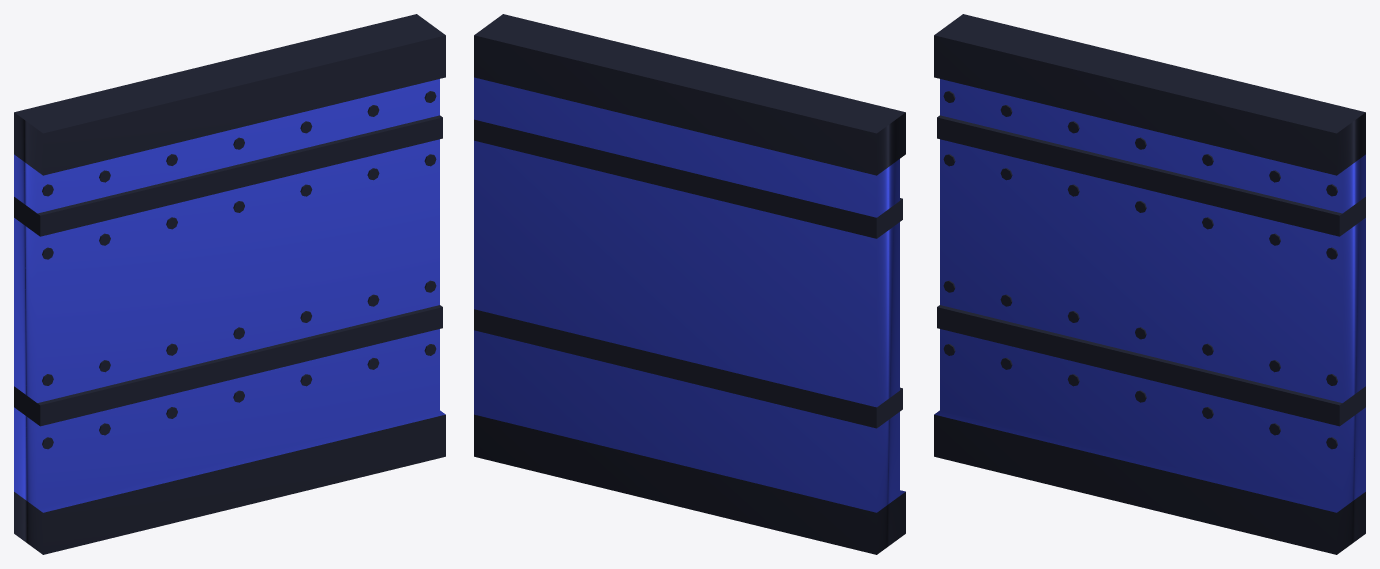
File: Roof_Flat.fbx
3 views of the same model, side by side, from view 1: azimuth 30°, elevation 25°; view 2: azimuth 150°, elevation 25°; view 3: azimuth 330°, elevation 25° (orthographic).
Parts seen in each view (by area): view 1: Roof_Flat; view 2: Roof_Flat; view 3: Roof_Flat.
Part boxes in pixels (box(x1,y1,x2,y2)): Roof_Flat: box(14, 14, 445, 554); Roof_Flat: box(474, 14, 905, 554); Roof_Flat: box(934, 14, 1365, 554).
Size of the model in its own units: 200 by 200 by 25.
